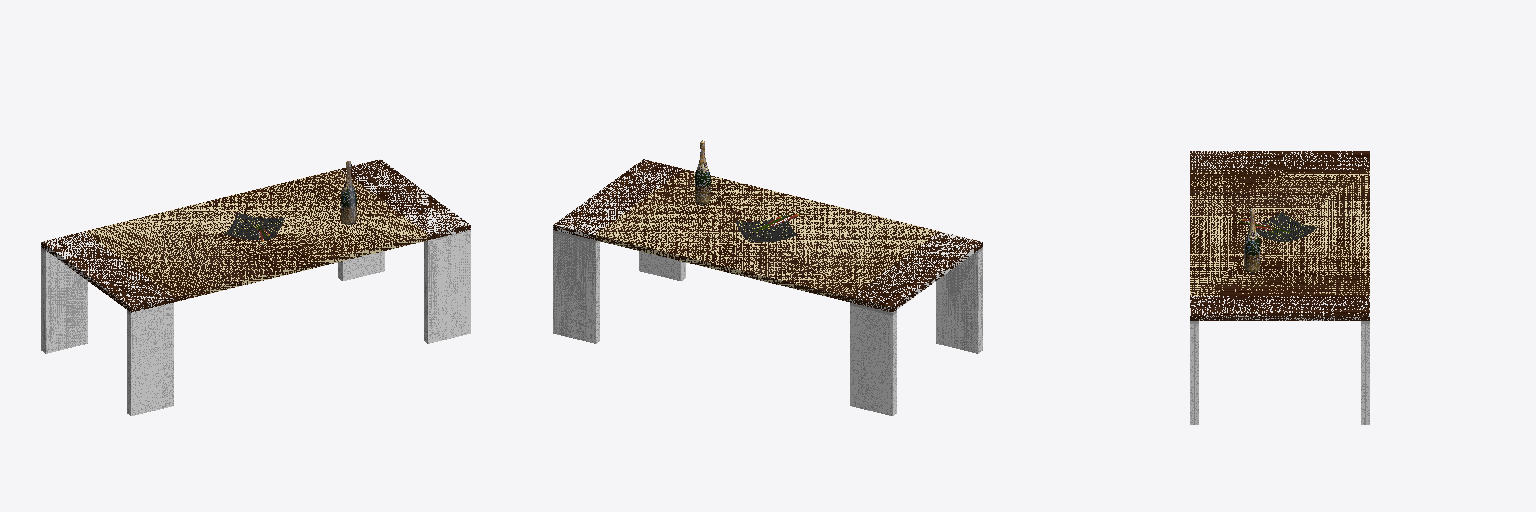
3 renders of one model, left to right at view 1: azimuth 30°, elevation 25°; view 2: azimuth 150°, elevation 25°; view 3: azimuth 270°, elevation 25°, orthographic.
Parts seen in each view (by area): view 1: mesh1_mesh1-geometry, mesh11_mesh11-geometry, mesh6_mesh6-geometry, mesh9_mesh9-geometry, mesh16_mesh16-geometry, mesh4_mesh4-geometry, mesh33_mesh33-geometry; view 2: mesh1_mesh1-geometry, mesh9_mesh9-geometry, mesh4_mesh4-geometry, mesh11_mesh11-geometry, mesh16_mesh16-geometry, mesh6_mesh6-geometry, mesh33_mesh33-geometry; view 3: mesh1_mesh1-geometry, mesh4_mesh4-geometry, mesh6_mesh6-geometry, mesh16_mesh16-geometry, mesh33_mesh33-geometry.
Boxes of the visible parts, box(x1,y1,x2,y2) form: mesh1_mesh1-geometry: box(41, 159, 470, 312); mesh11_mesh11-geometry: box(127, 303, 173, 415); mesh6_mesh6-geometry: box(424, 230, 470, 343); mesh9_mesh9-geometry: box(41, 247, 87, 353); mesh16_mesh16-geometry: box(224, 213, 284, 239); mesh4_mesh4-geometry: box(338, 251, 384, 280); mesh33_mesh33-geometry: box(341, 161, 356, 224); mesh1_mesh1-geometry: box(553, 159, 982, 312); mesh9_mesh9-geometry: box(850, 303, 896, 415); mesh4_mesh4-geometry: box(553, 230, 599, 343); mesh11_mesh11-geometry: box(936, 247, 982, 353); mesh16_mesh16-geometry: box(735, 215, 796, 241); mesh6_mesh6-geometry: box(639, 251, 685, 280); mesh33_mesh33-geometry: box(695, 140, 710, 204); mesh1_mesh1-geometry: box(1190, 151, 1369, 320); mesh4_mesh4-geometry: box(1361, 321, 1369, 424); mesh6_mesh6-geometry: box(1190, 321, 1198, 424); mesh16_mesh16-geometry: box(1248, 212, 1317, 241); mesh33_mesh33-geometry: box(1244, 208, 1259, 272).
Bounding box in the file's own units: 0.8317 × 0.4037 × 0.3812.
Materials: 11 (4 with a texture image).